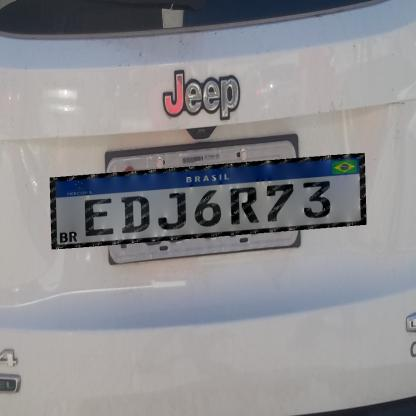PlacaM: (50, 154, 366, 250)
